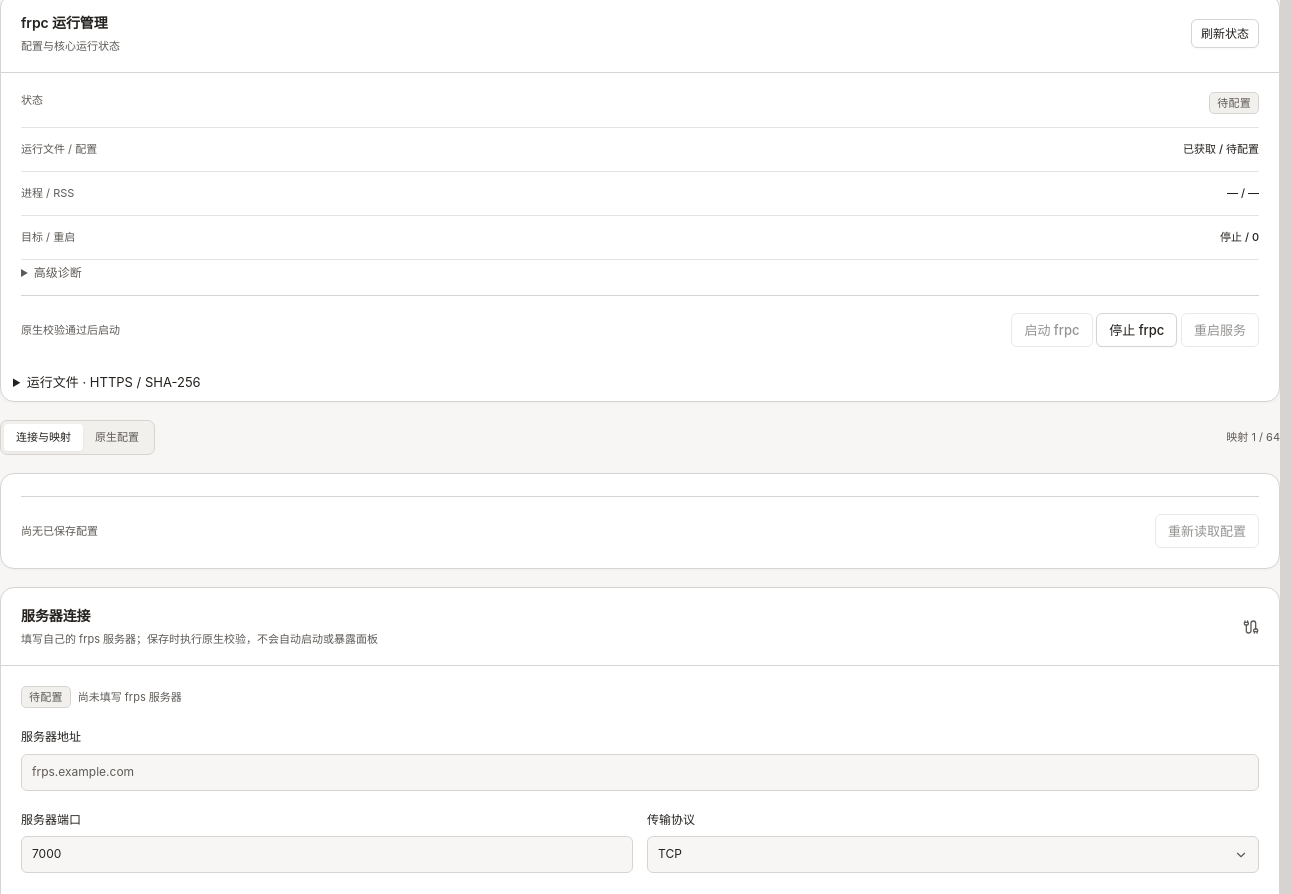
Test: FrpcPage runtime configuration › previews redacted TOML locally and sends nothing until explicit Commit
The image size is (1292, 894).
Step 1. Type "frps.example.test" into the field labelled "服务器地址" → (640, 772), box [21,754,1259,791]
(page scrolled)
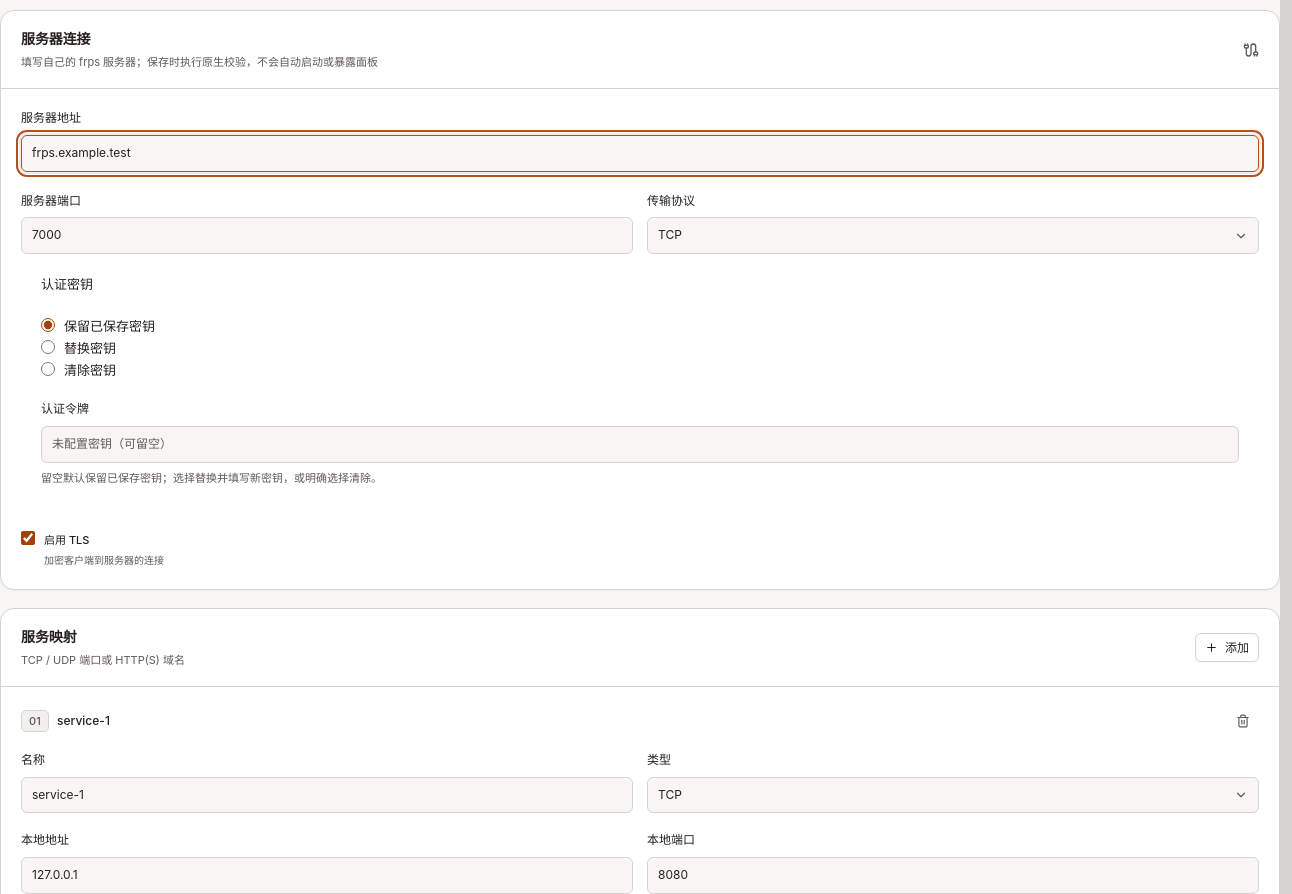
Step 2. Type "synthetic-private-token" into the password field labelled "认证令牌" → (640, 444), box [41,426,1239,463]
(page scrolled)
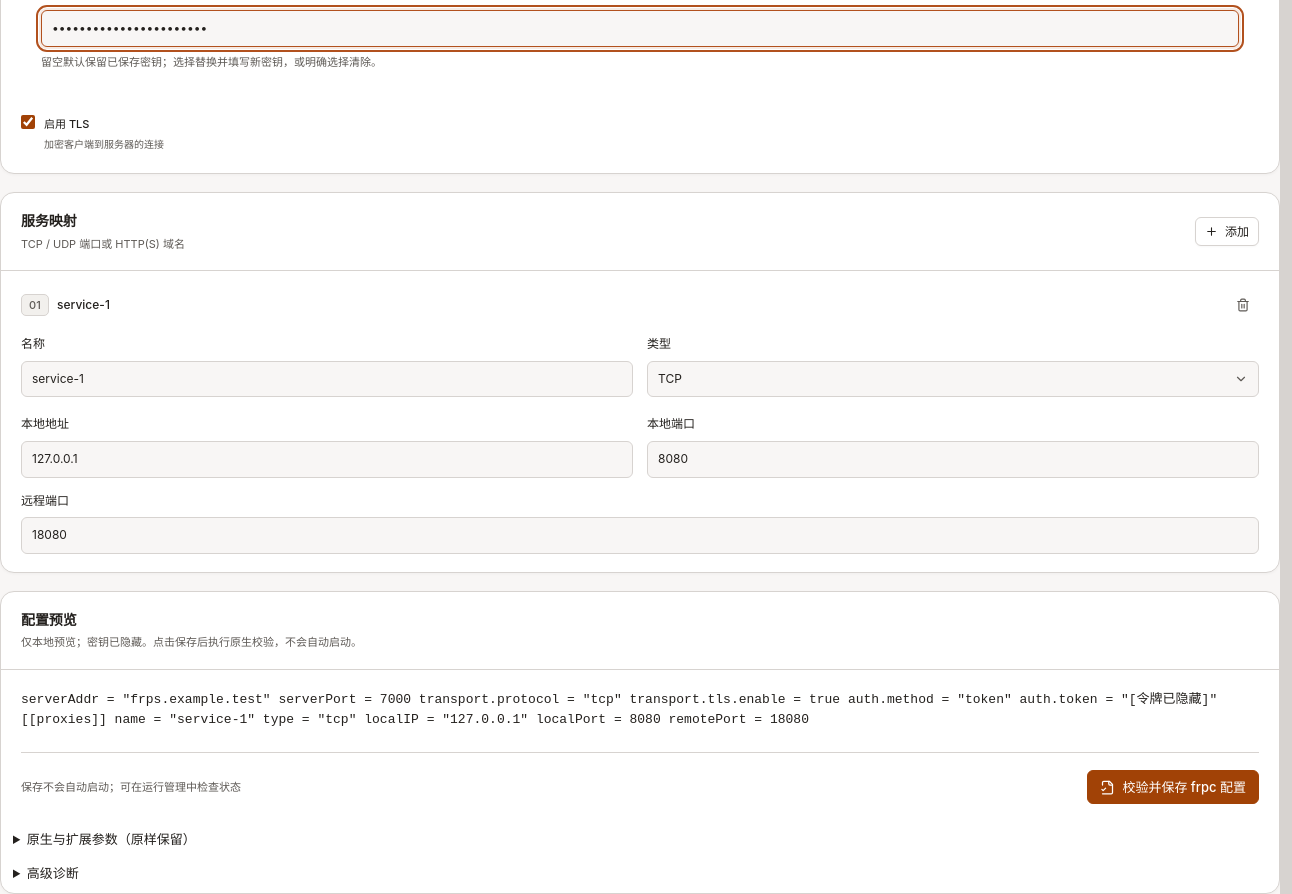
Expected: the text named "frpc TOML 预览" does not show "synthetic-private-token", [21,690,1259,730]
Result: the text named "frpc TOML 预览" shows "serverAddr = \"frps.example.test\"" at [21,692,1217,727]
Result: the text named "frpc TOML 预览" shows "auth.token = \"[令牌已隐藏]\"" at [21,692,1217,727]
